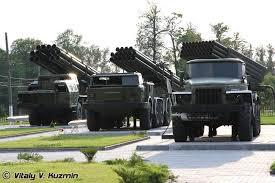MIL_SAM_TEL: (169, 40, 268, 142), (83, 45, 183, 129), (17, 44, 98, 124)
